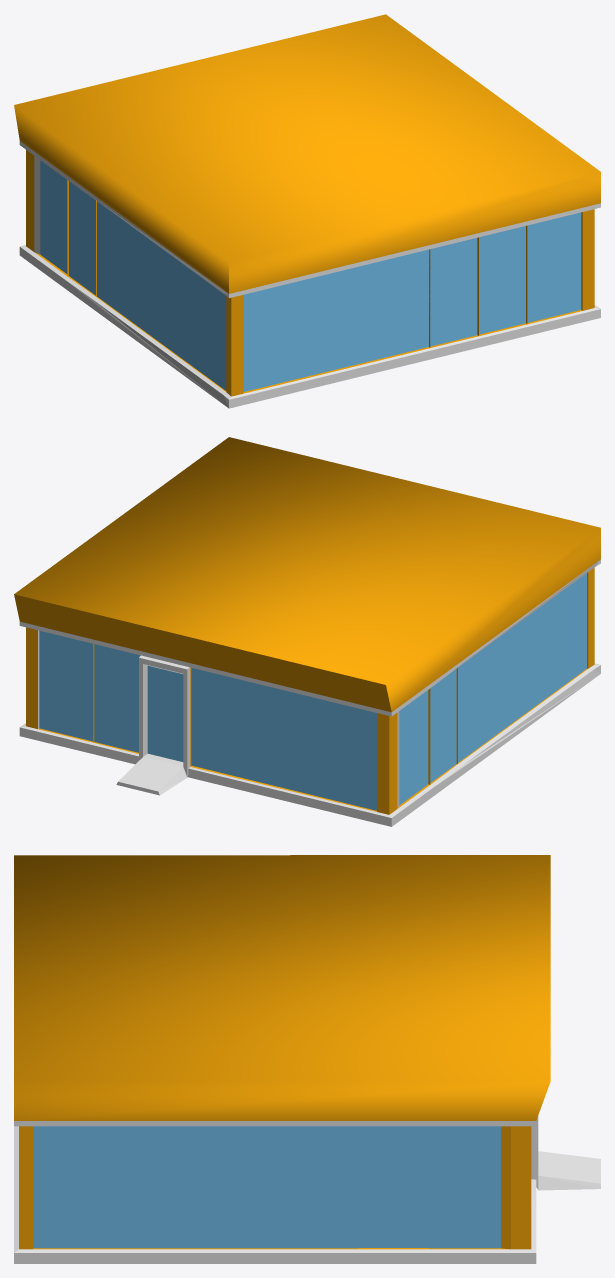
Rendered from Shop8x8x3Orange.fbx.
The picture shows the model from 3 angles, top to bottom: view 1: azimuth 30°, elevation 25°; view 2: azimuth 150°, elevation 25°; view 3: azimuth 270°, elevation 25°; orthographic projection. The views are drawn at different scales.
Parts seen in each view (by area): view 1: Shop.001; view 2: Shop.001; view 3: Shop.001.
Part boxes in pixels (x1,y1,x2,y2): Shop.001: (14,14,600,408); Shop.001: (14,437,600,826); Shop.001: (14,855,600,1263).
Size of the model in its own units: 7.96 by 2.99 by 8.72.
1 material, 1 textured.
